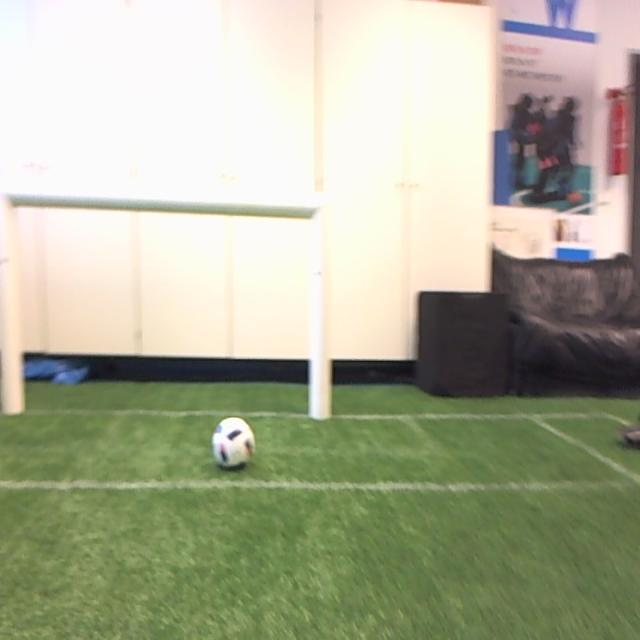ball: (211, 415, 255, 469)
goalpost: (307, 204, 332, 418), (0, 192, 22, 410)
